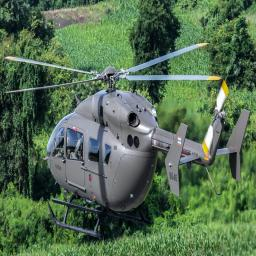helicopter: (15, 27, 253, 247)
